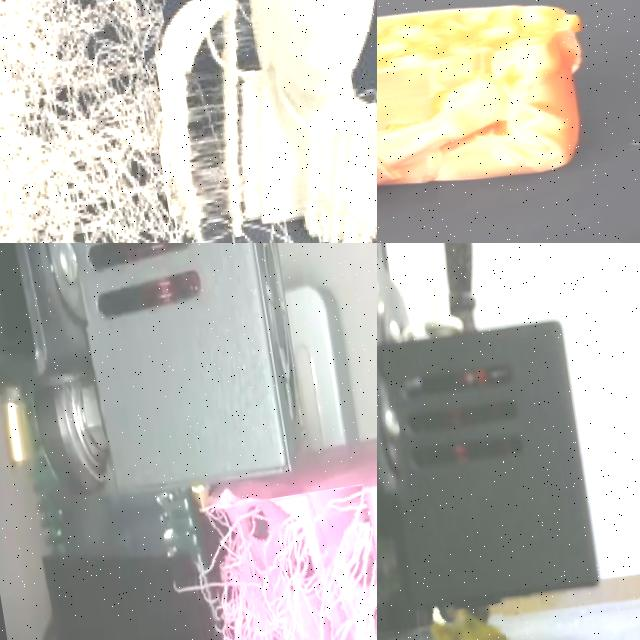spaghetti: (116, 0, 377, 243), (0, 0, 193, 243), (175, 484, 377, 640), (432, 608, 507, 640)
